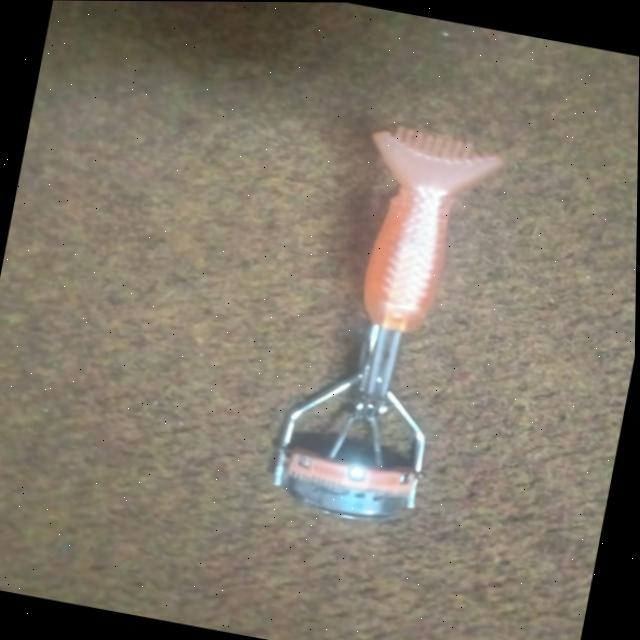eyelash curler: (231, 86, 552, 556)
